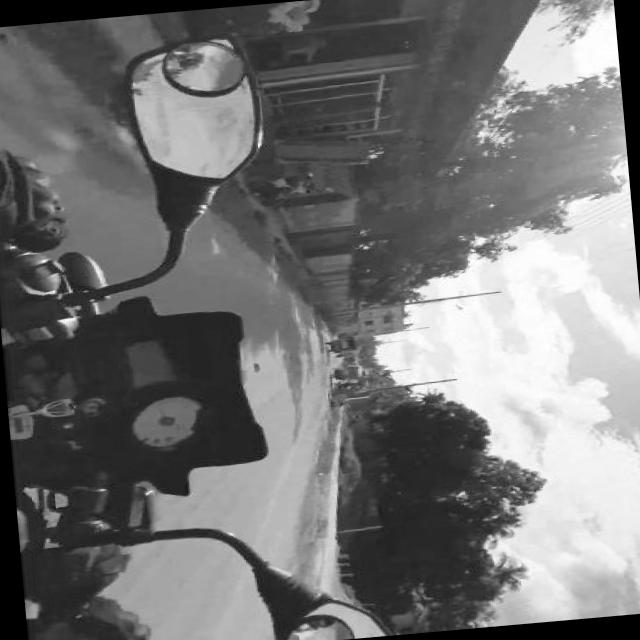motorcycle: (250, 168, 333, 208), (327, 334, 358, 352), (330, 364, 362, 379), (334, 350, 354, 357)
